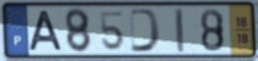5: (98, 10, 126, 52)
8: (64, 6, 94, 55), (198, 8, 226, 53)
A: (28, 9, 65, 52)
D: (128, 7, 163, 54)
I: (173, 7, 186, 55)
